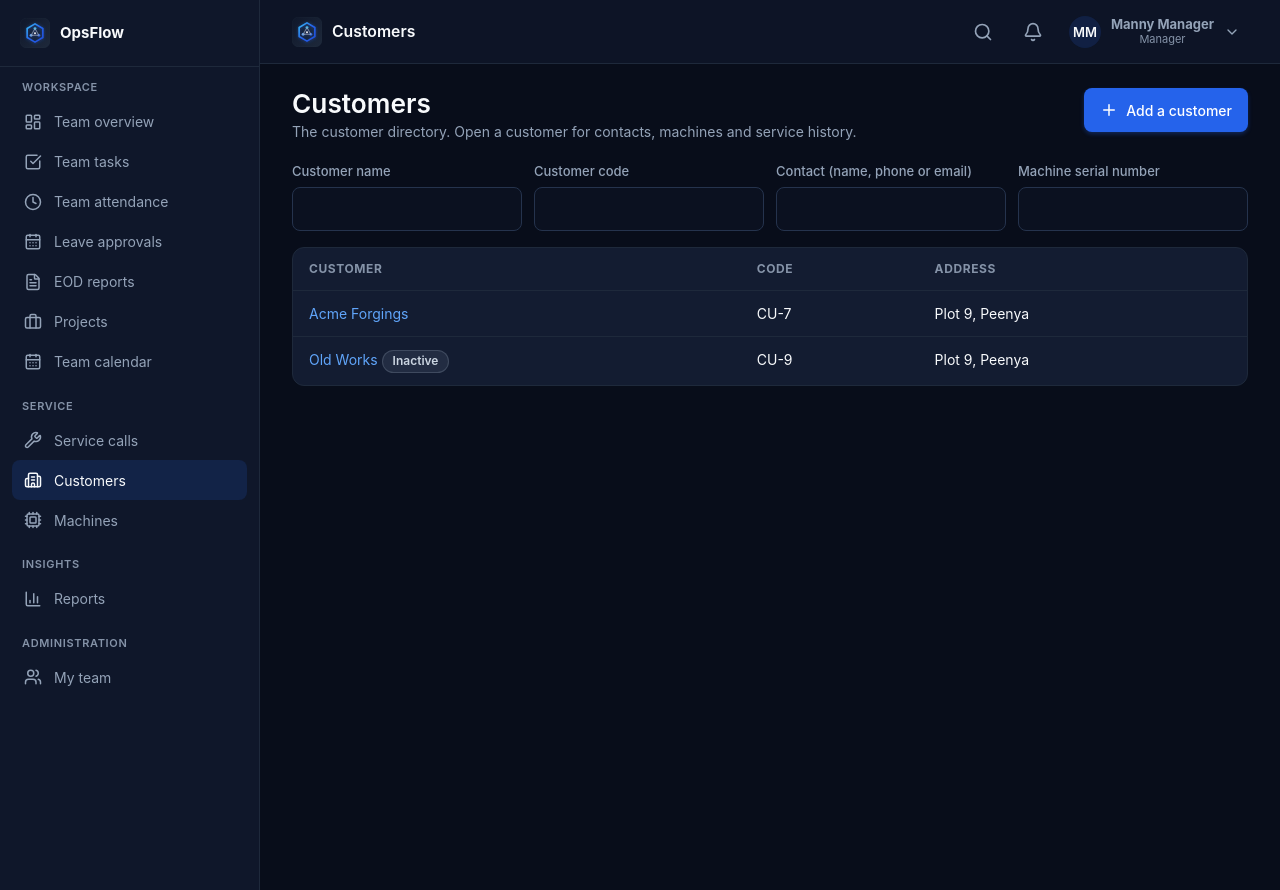
Test case: Customers › validates and creates a customer, then opens it
Click the button "Add a customer" at x=1166, y=110, box left=1084, top=88, right=1248, bottom=132
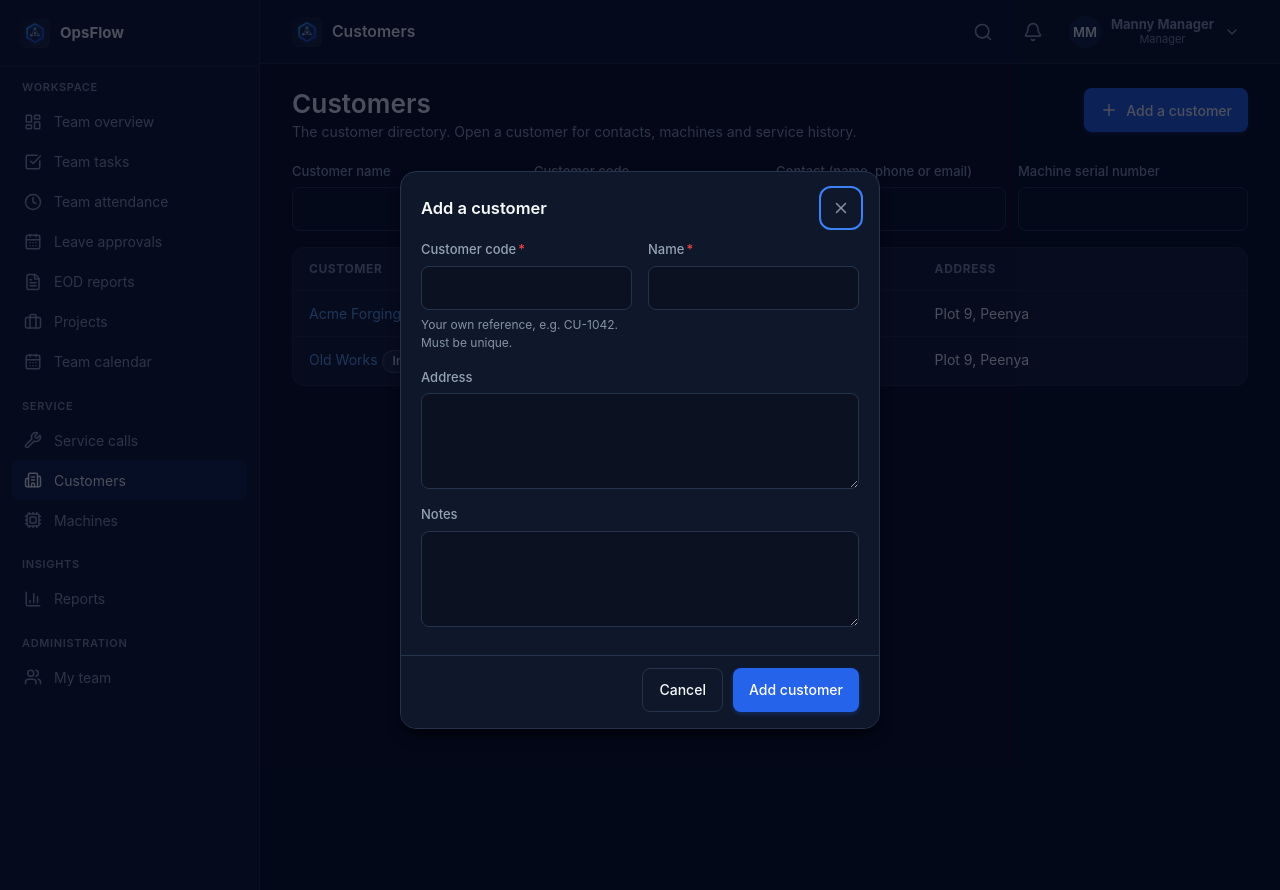
Click the button "Add customer" at x=796, y=690, box left=733, top=668, right=859, bottom=712
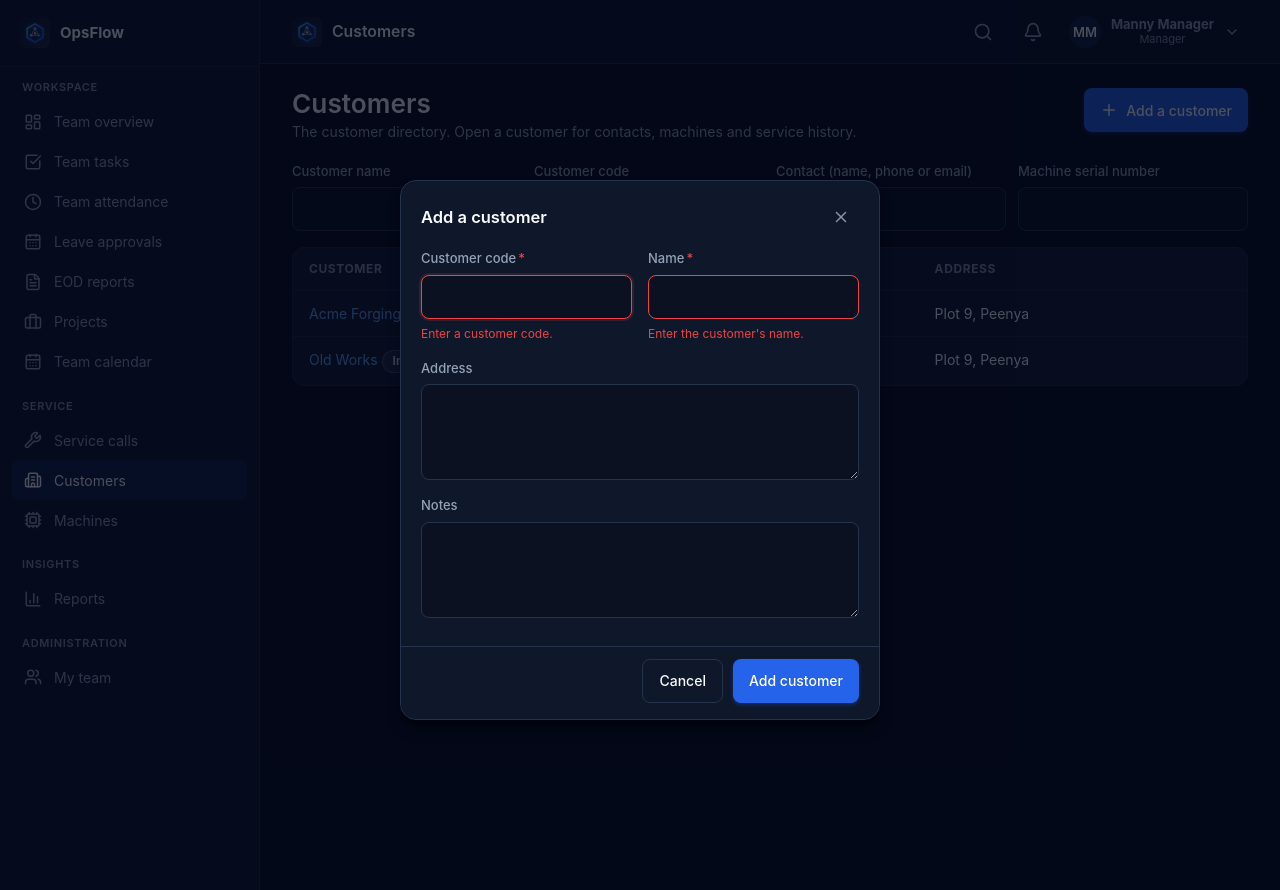
Check: the text "Enter a customer code." is shown, box left=421, top=326, right=553, bottom=341
Check: the text "Enter the customer's name." is shown, box left=648, top=326, right=804, bottom=341
Type " CU-99 " into the field labelled "Customer code*" at x=526, y=297, box left=421, top=275, right=632, bottom=319
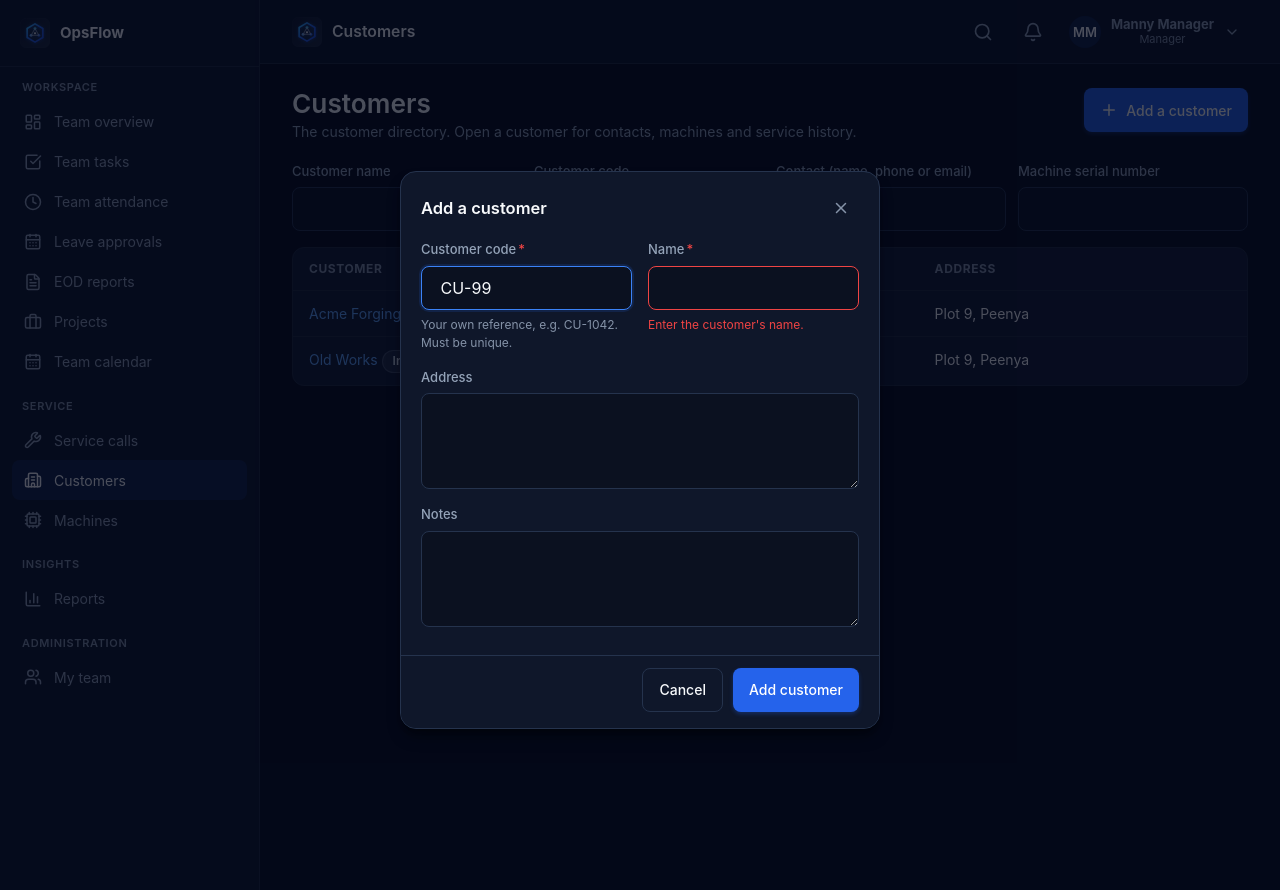
Type "New Co" into the field labelled "Name*" at x=754, y=288, box left=648, top=266, right=859, bottom=310
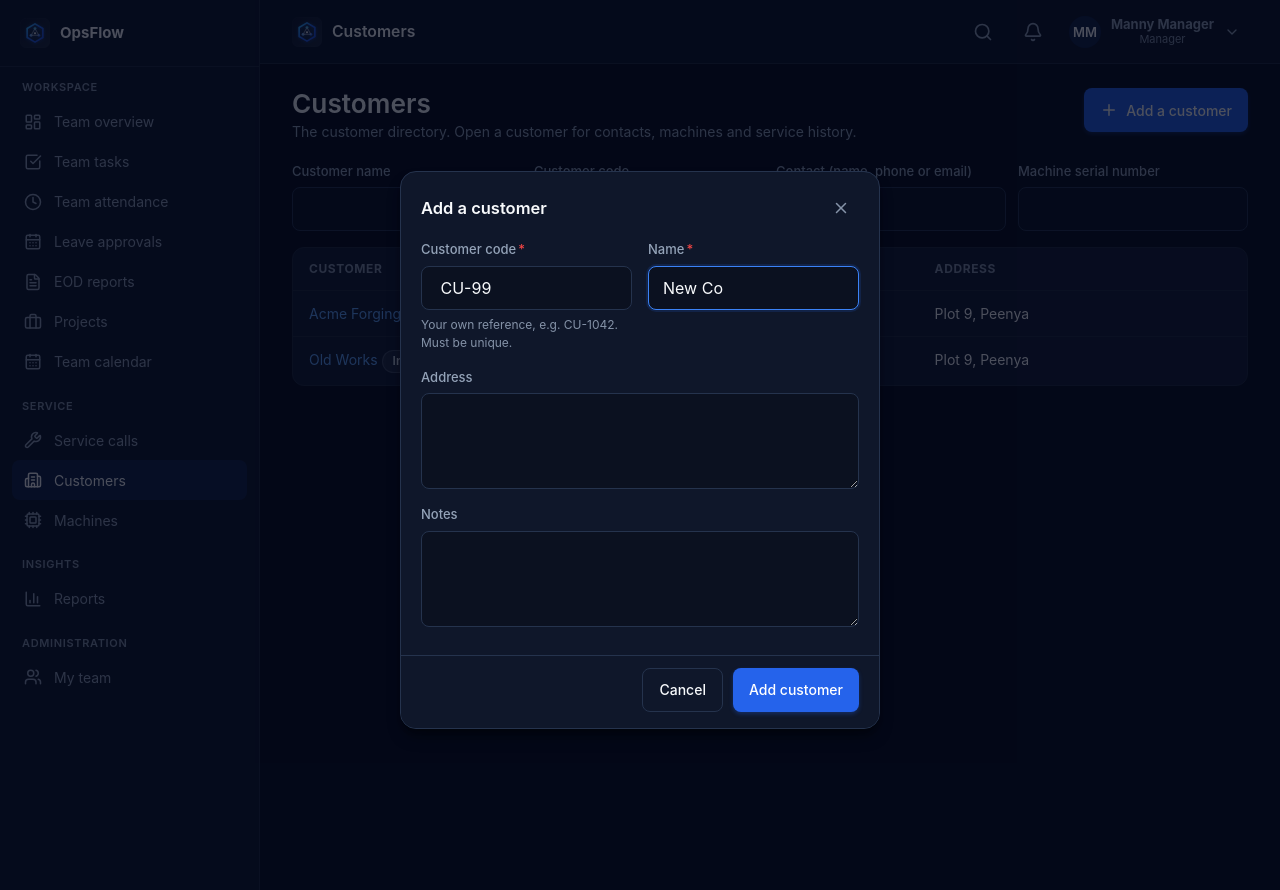
Type "Bangalore" into the text box labelled "Address" at x=640, y=441, box left=421, top=393, right=859, bottom=489
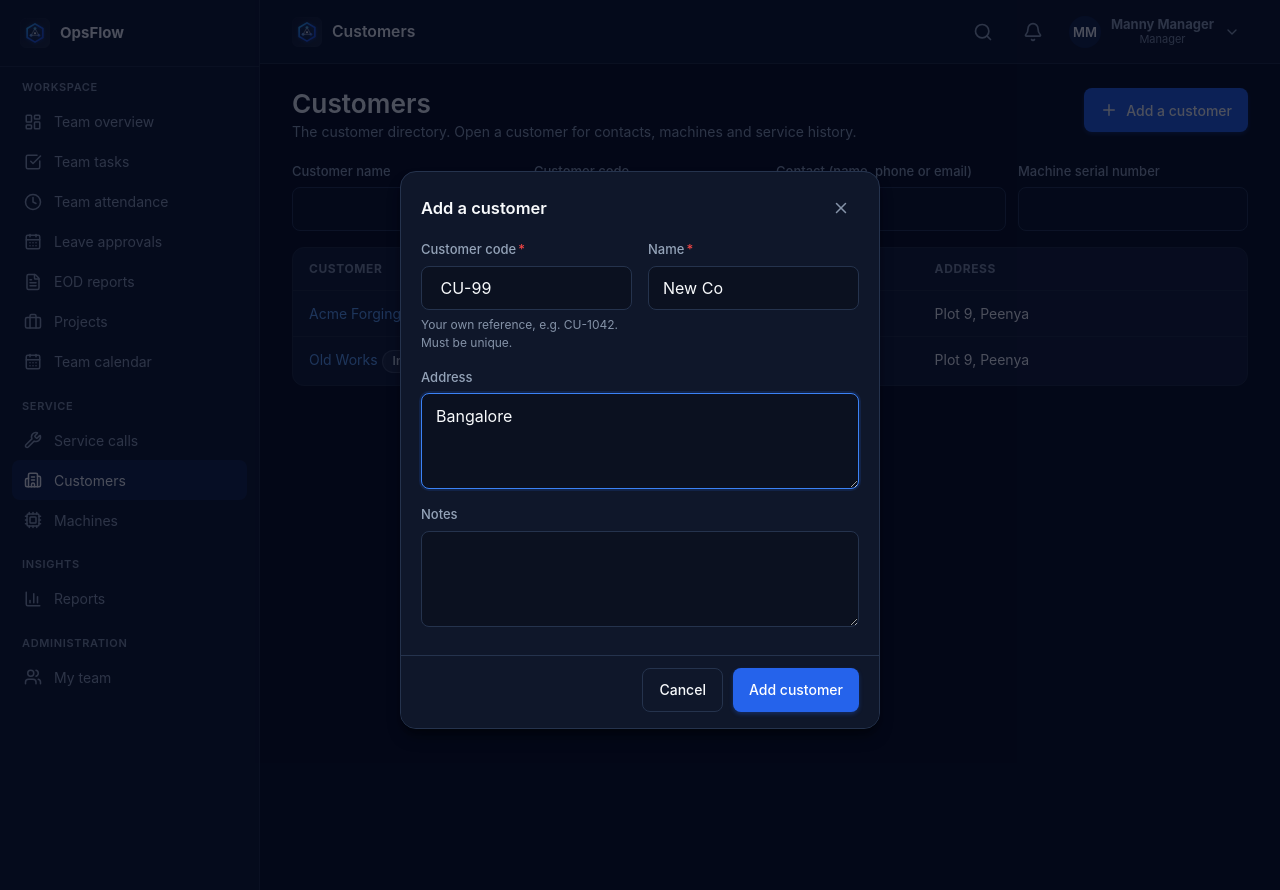
Click the button "Add customer" at x=796, y=690, box left=733, top=668, right=859, bottom=712
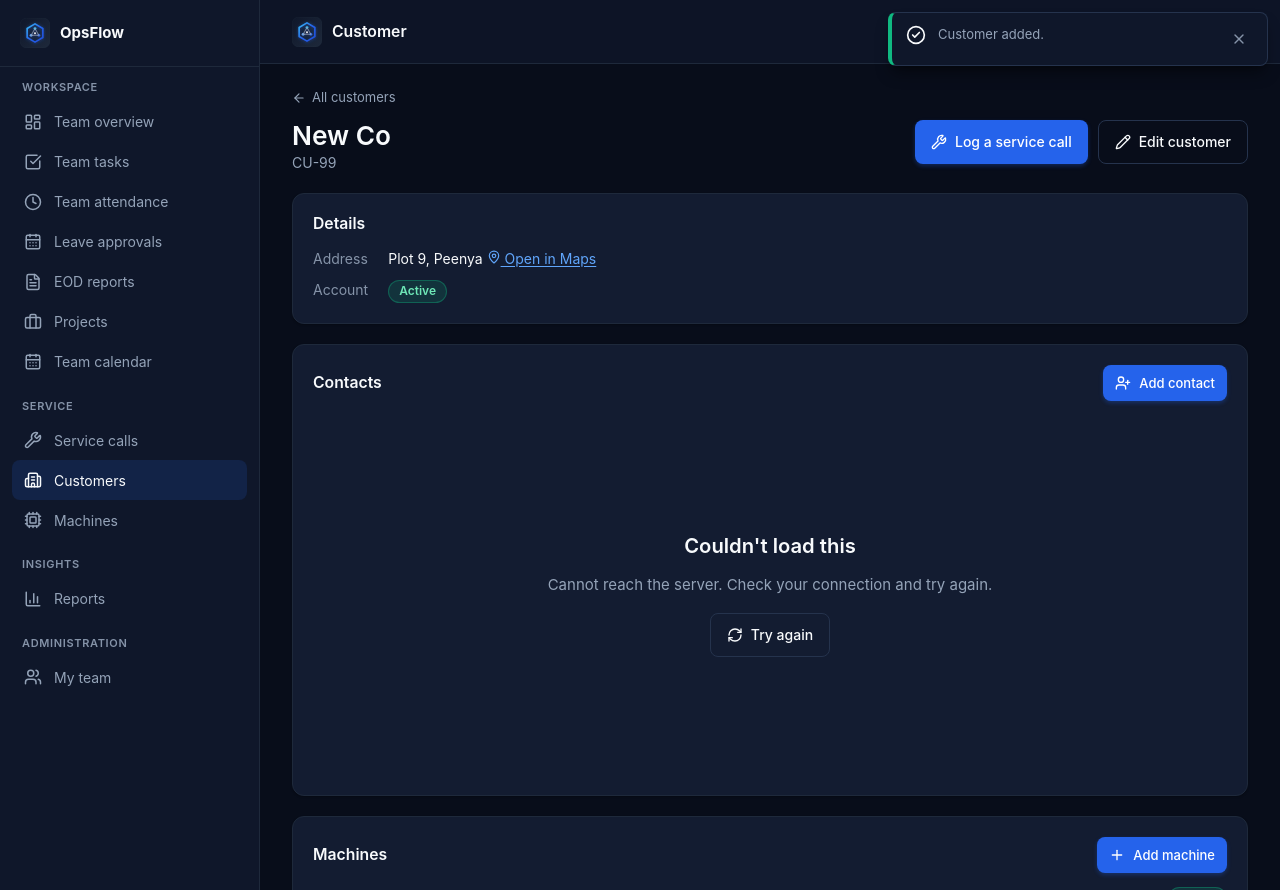
Check: the heading "New Co" is shown, box left=292, top=120, right=391, bottom=152
